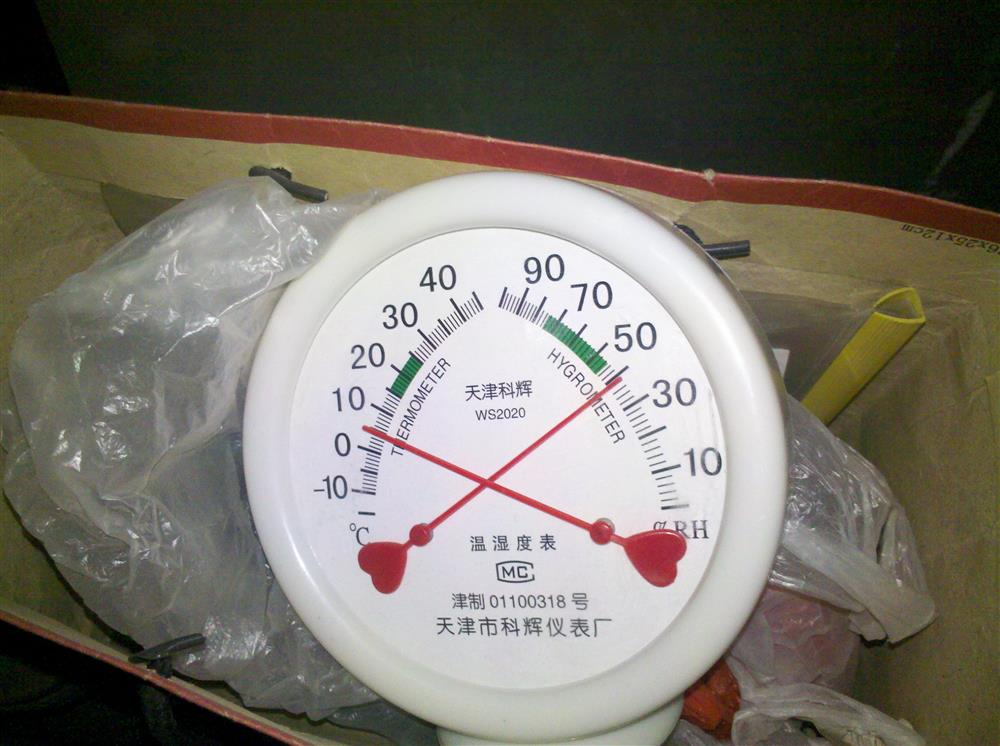Thermometer: (245, 157, 786, 742)
